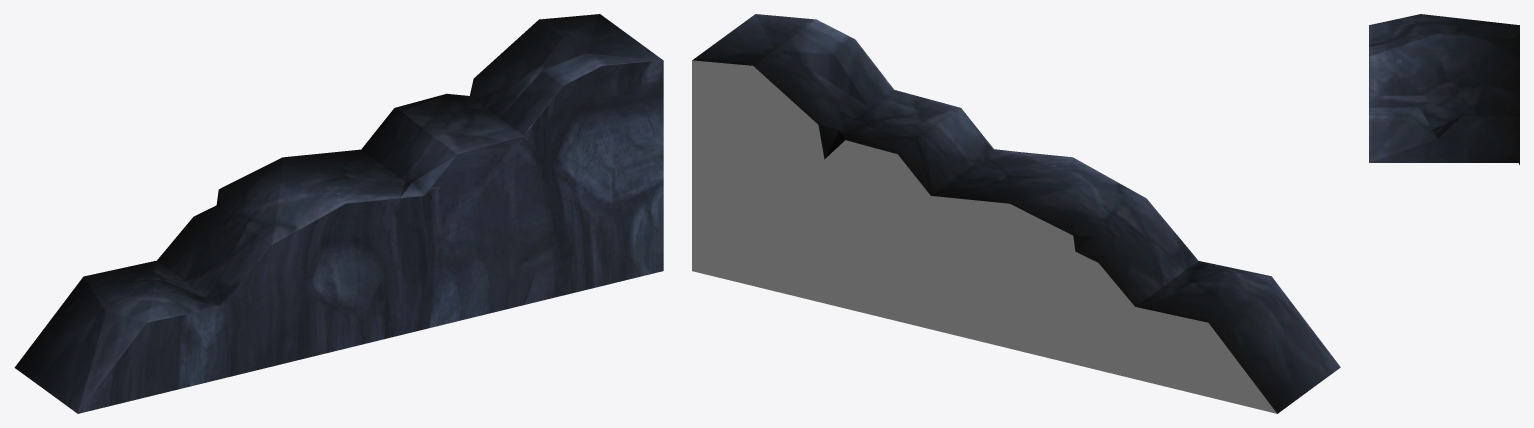
File: mine_broken_trancap_02.fbx
The picture shows the model from 3 angles, left to right: view 1: azimuth 30°, elevation 25°; view 2: azimuth 150°, elevation 25°; view 3: azimuth 270°, elevation 25°; orthographic projection. The views are drawn at different scales.
Visible parts, largest first — view 1: mine_broken_trancap_02-0; view 2: mine_broken_trancap_02-0; view 3: mine_broken_trancap_02-0.
Part boxes in pixels (<box>): mine_broken_trancap_02-0: <box>14,14,663,413</box>; mine_broken_trancap_02-0: <box>692,14,1340,413</box>; mine_broken_trancap_02-0: <box>1369,14,1519,164</box>.
Bounding box in the file's own units: 4 × 1.44 × 0.75.
